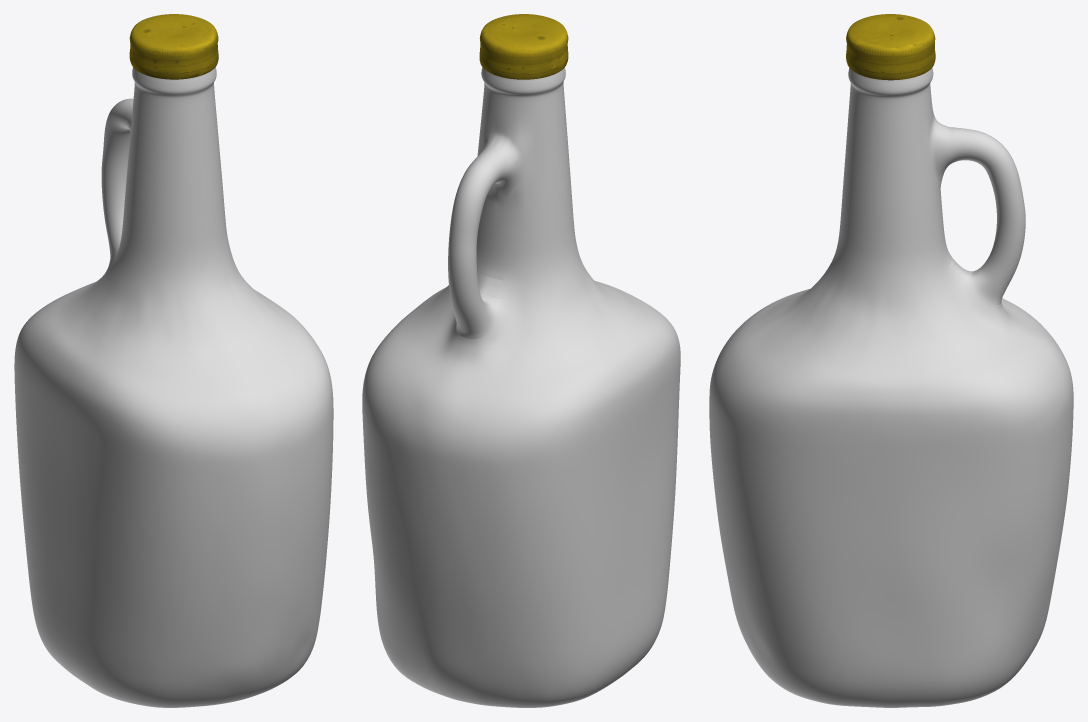
Rendered from Large Glass Bottle.fbx.
3 views of the same model, side by side, from view 1: azimuth 30°, elevation 25°; view 2: azimuth 150°, elevation 25°; view 3: azimuth 270°, elevation 25° (orthographic).
Visible parts, largest first — view 1: Bottle Green, Lid; view 2: Bottle Green, Lid; view 3: Bottle Green, Lid.
Boxes of the visible parts, <box> form: Bottle Green: <box>14,67,333,707</box>; Lid: <box>129,14,218,79</box>; Bottle Green: <box>362,67,680,707</box>; Lid: <box>479,14,568,79</box>; Bottle Green: <box>709,68,1073,707</box>; Lid: <box>846,14,935,80</box>.
Size of the model in its own units: 50.82 by 130 by 68.
Materials: 2 (1 with a texture image).
